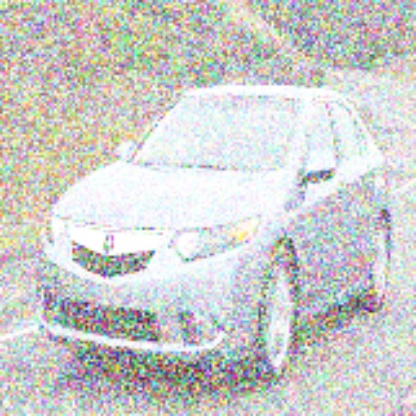Vehicle: (37, 86, 394, 392)
